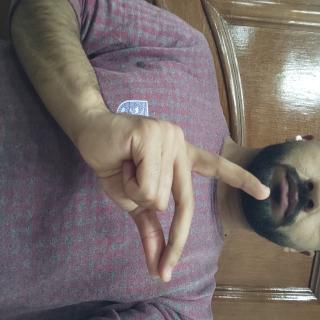TAA: (82, 61, 215, 320)
